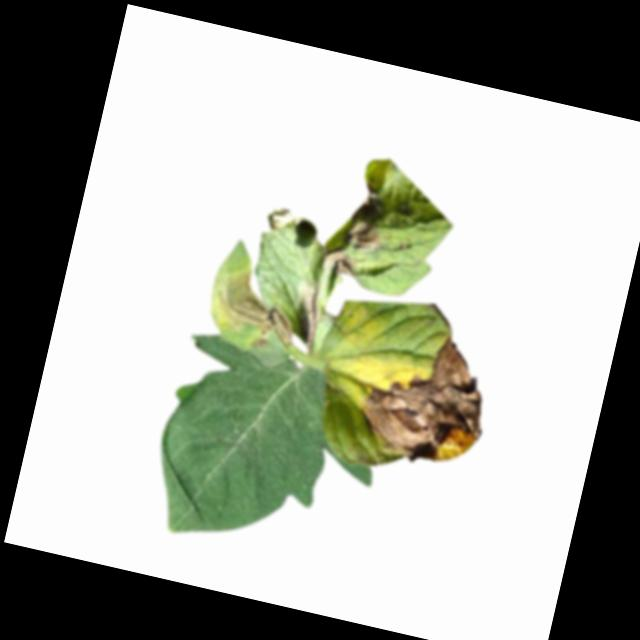Late_blight: (349, 320, 500, 475), (205, 264, 307, 350), (340, 177, 394, 259), (286, 279, 328, 352), (317, 245, 362, 279), (265, 201, 303, 234), (248, 335, 271, 352)
